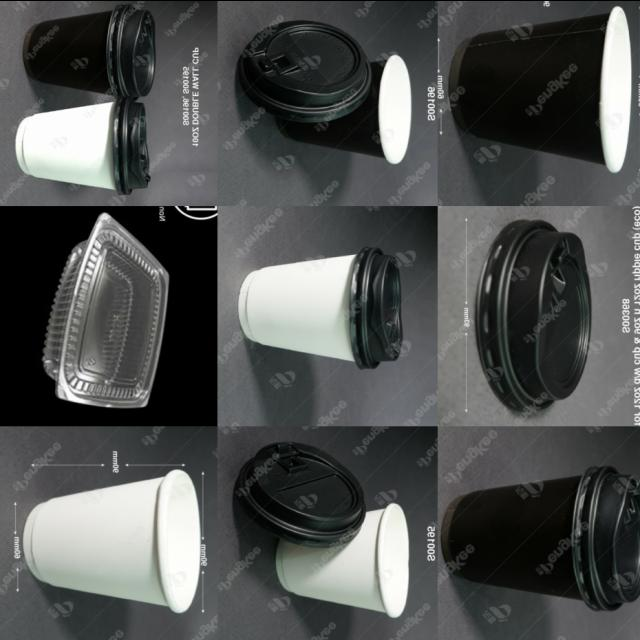plastik: (449, 7, 632, 172), (442, 465, 640, 611), (24, 469, 200, 612), (43, 212, 169, 407), (477, 218, 591, 411), (239, 247, 404, 368), (277, 502, 409, 617), (277, 55, 411, 163), (235, 442, 366, 546), (15, 96, 151, 194), (239, 20, 371, 120), (23, 3, 156, 97)
